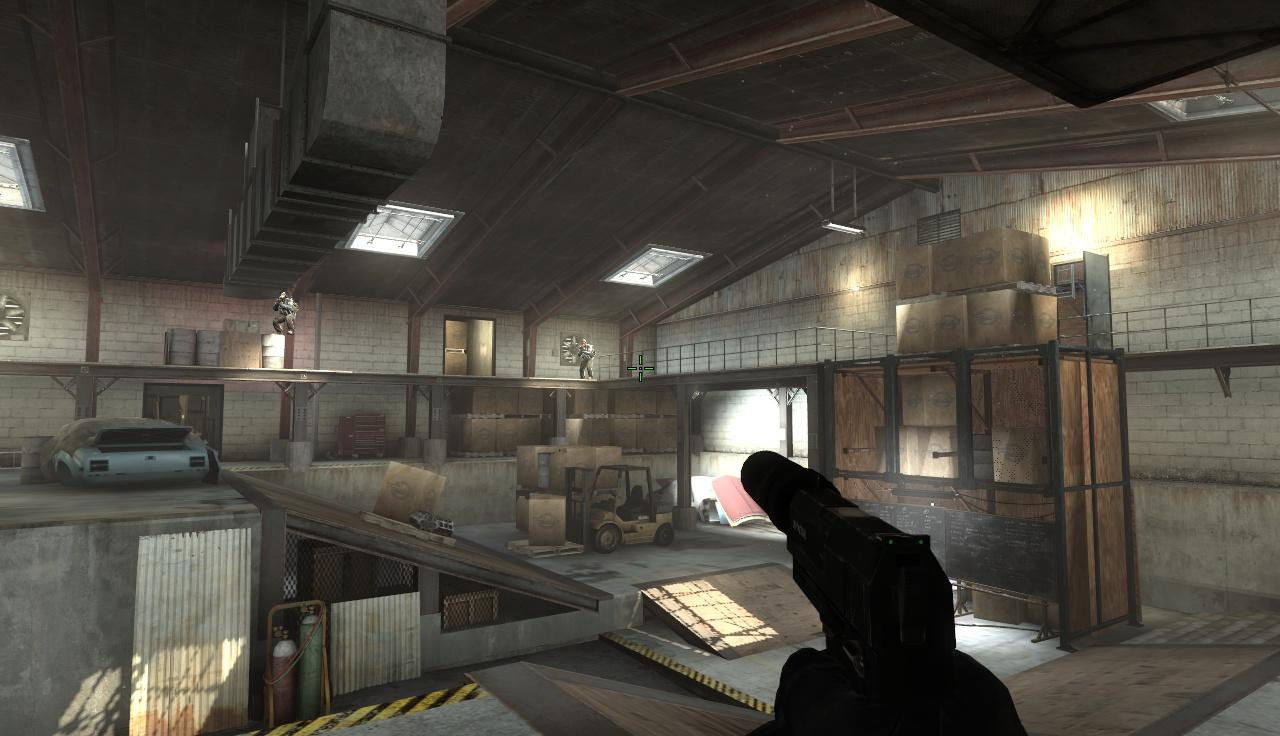ct: (273, 292, 296, 335), (578, 339, 595, 378)
cthead: (280, 291, 287, 299), (581, 339, 587, 346)
pistol: (739, 444, 1031, 734)
